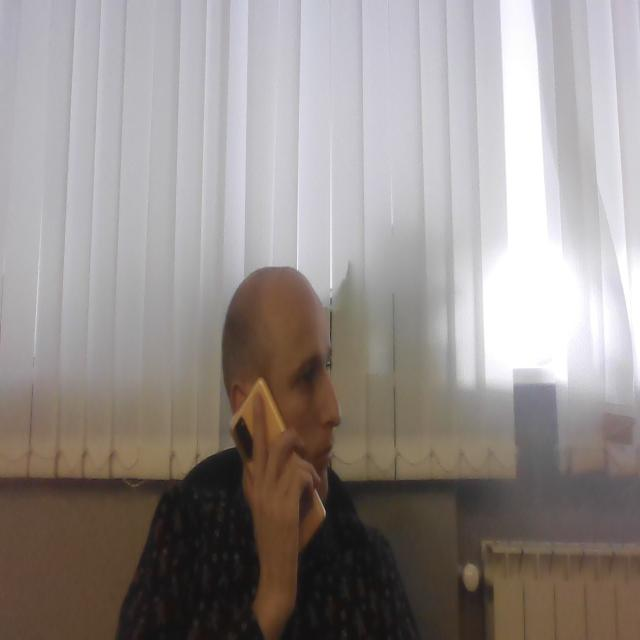phone: (231, 377, 326, 556)
